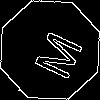M: (25, 25, 84, 82)
